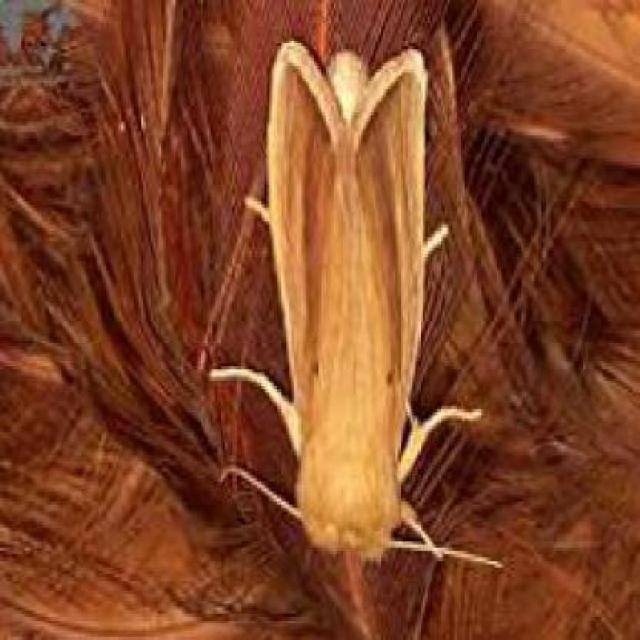stem-borer: (252, 35, 434, 568)
